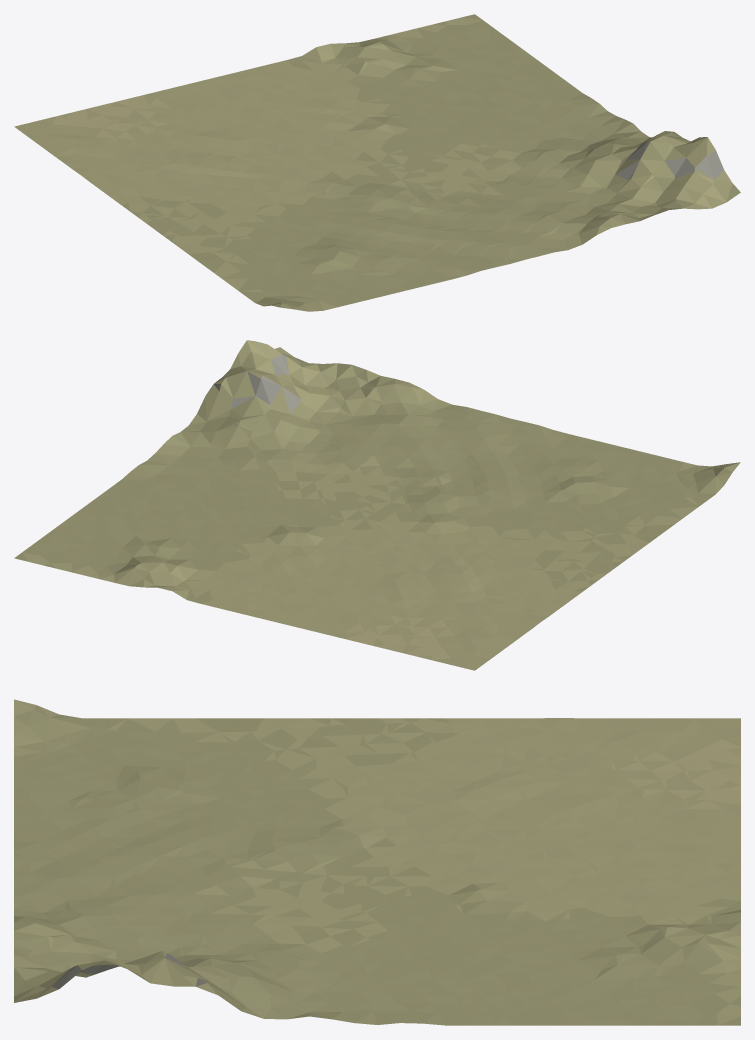
The model's file is Ground_-6_-9.glb.
3 renders of one model, top to bottom at view 1: azimuth 30°, elevation 25°; view 2: azimuth 150°, elevation 25°; view 3: azimuth 270°, elevation 25°, orthographic. The views are drawn at different scales.
Visible parts, largest first — view 1: Ground_-6_-9; view 2: Ground_-6_-9; view 3: Ground_-6_-9.
Part boxes in pixels (left/top/right/bottom): Ground_-6_-9: left=14, top=14, right=740, bottom=311; Ground_-6_-9: left=14, top=340, right=740, bottom=670; Ground_-6_-9: left=14, top=699, right=740, bottom=1025.
Bounding box in the file's own units: 768 × 75.95 × 768.
